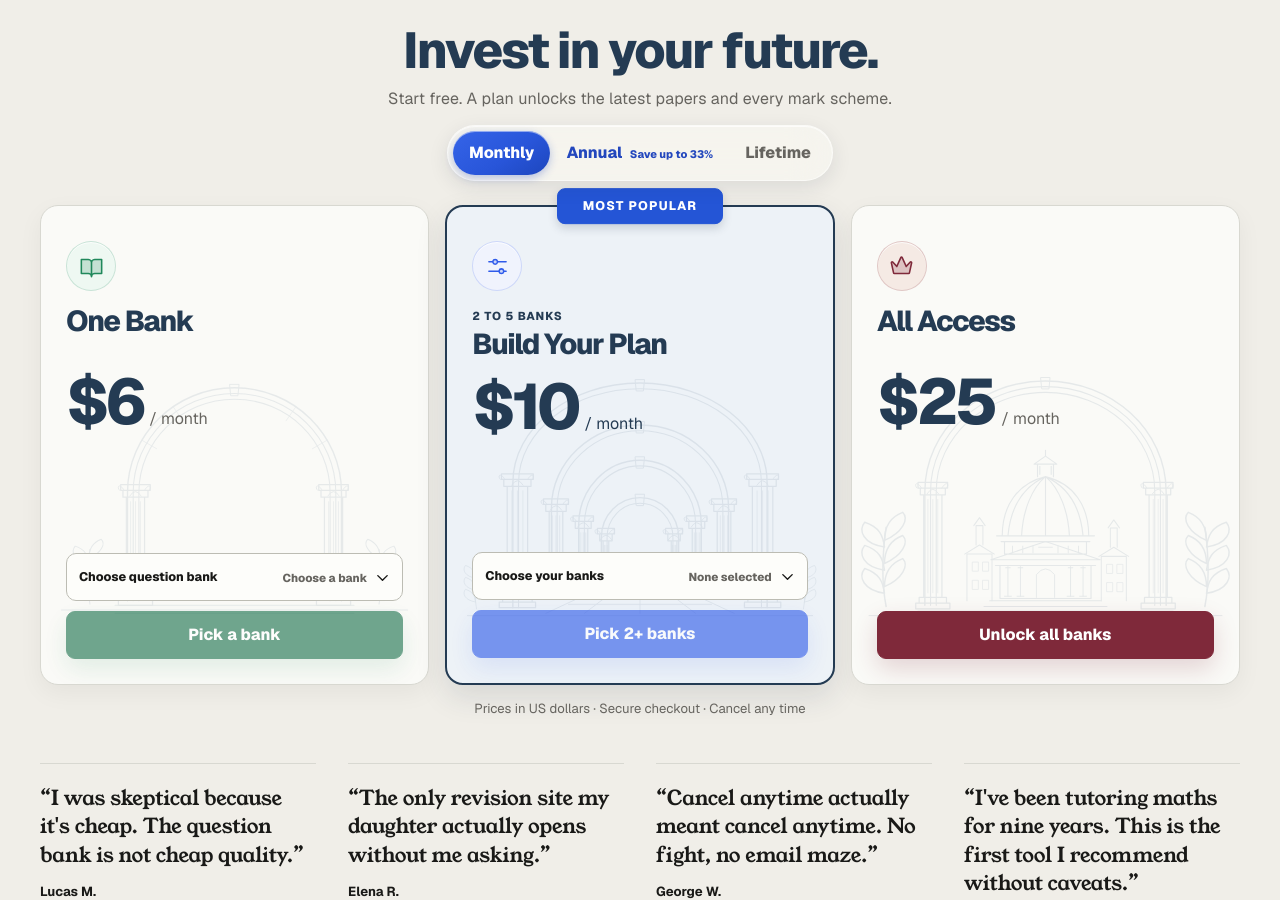
Test: approved custom-bank pricing › keeps only the annual billing line, which states a different amount
The width and height of the screenshot is (1280, 900).
What coordinates should you click on to do the following:
click the button "Annual Save up to 33%"
I would click on:
 (640, 153)
Its box is x1=550 y1=131 x2=729 y2=175.
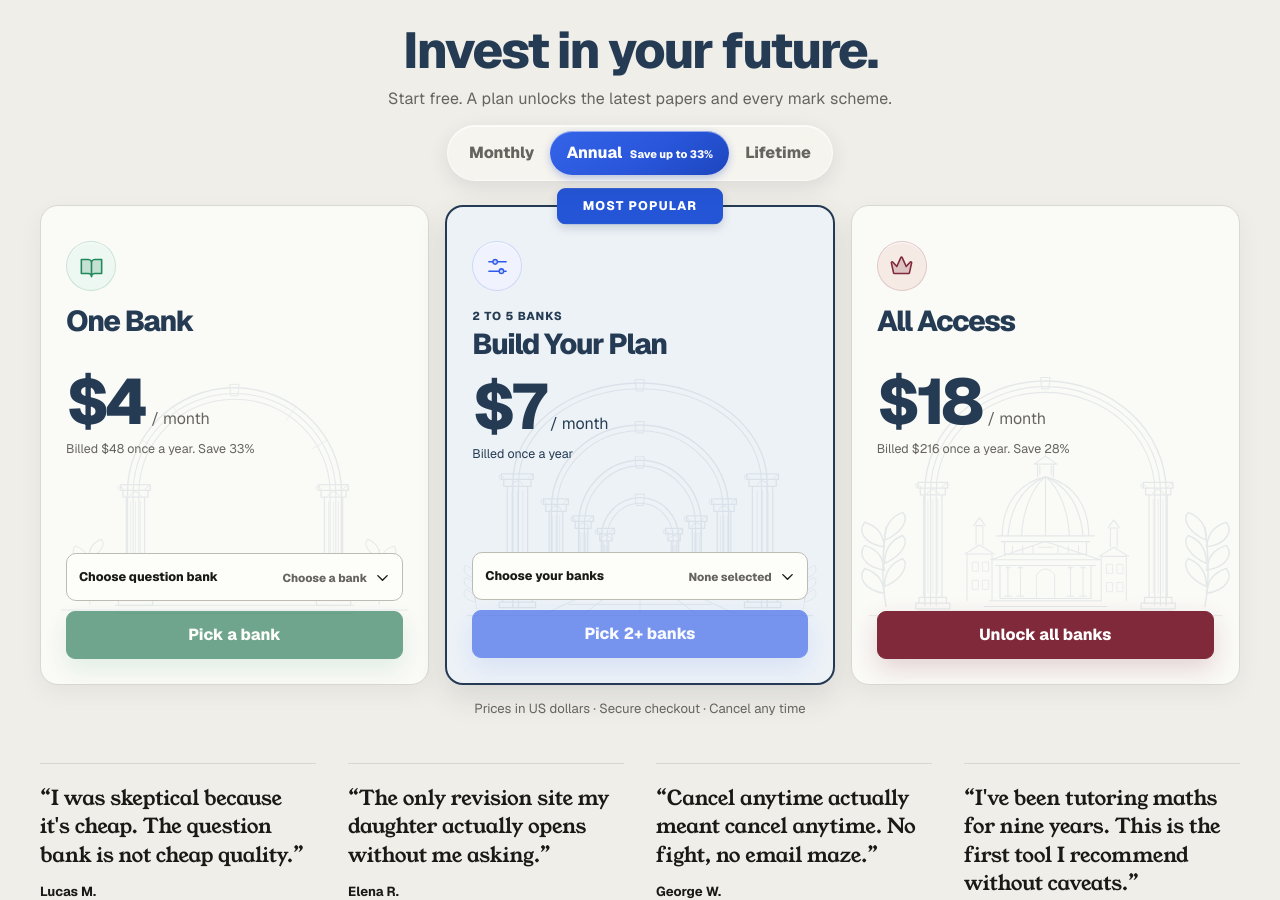
Result: the text "Billed $48 once a year. Save 33%" is shown at x1=66 y1=440 x2=254 y2=457
